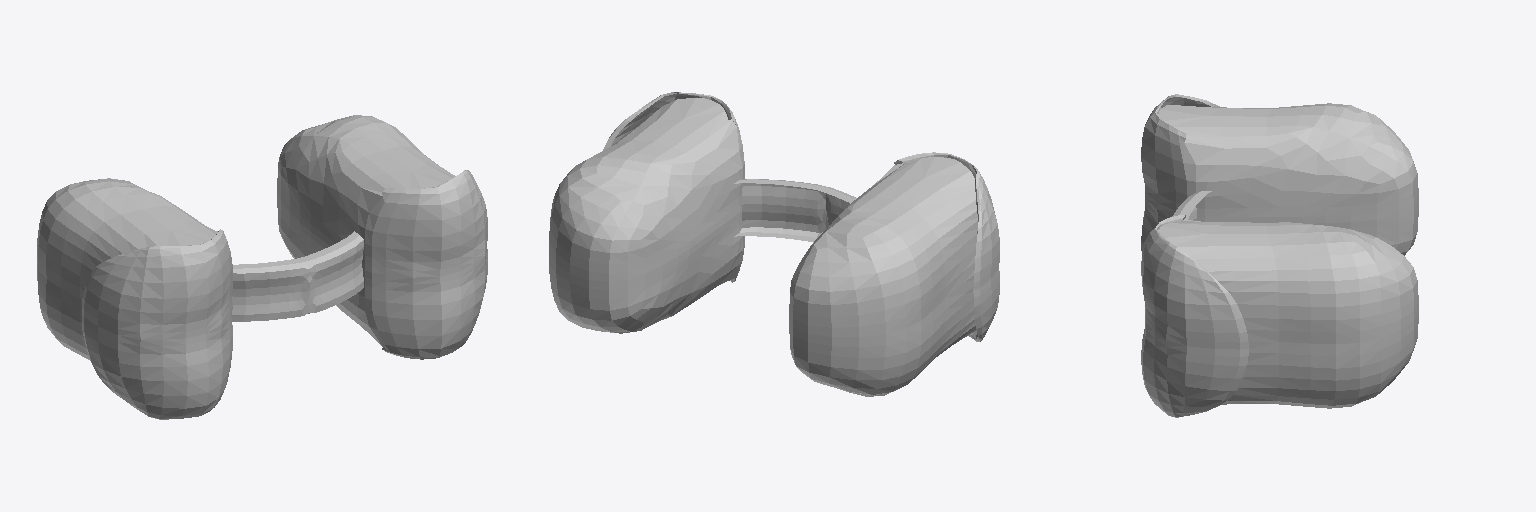
The model's file is saddlebag.obj.
3 renders of one model, left to right at view 1: azimuth 30°, elevation 25°; view 2: azimuth 150°, elevation 25°; view 3: azimuth 270°, elevation 25°, orthographic.
Parts seen in each view (by area): view 1: model.mochila.smd.mesh_0; view 2: model.mochila.smd.mesh_0; view 3: model.mochila.smd.mesh_0.
Boxes of the visible parts, <box> form: model.mochila.smd.mesh_0: <box>37,115,487,419</box>; model.mochila.smd.mesh_0: <box>549,92,999,396</box>; model.mochila.smd.mesh_0: <box>1141,94,1418,417</box>.
Bounding box in the file's own units: 17.67 × 7.64 × 11.08.